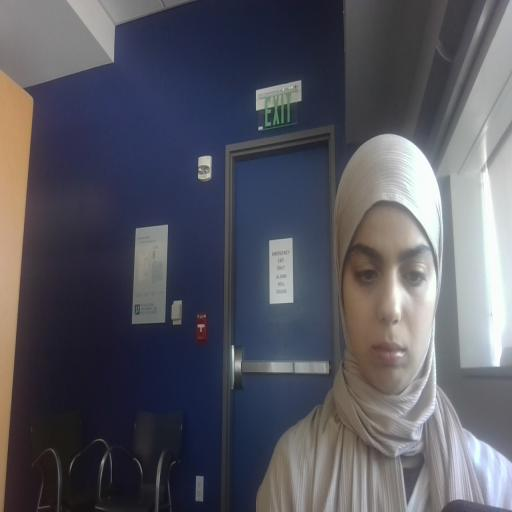lookingdownatphone: (350, 223, 445, 374)
phone: (442, 500, 512, 512)
